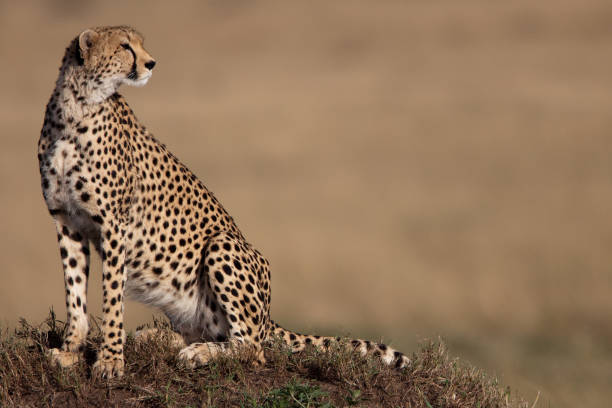cheetah: (69, 19, 165, 100)
